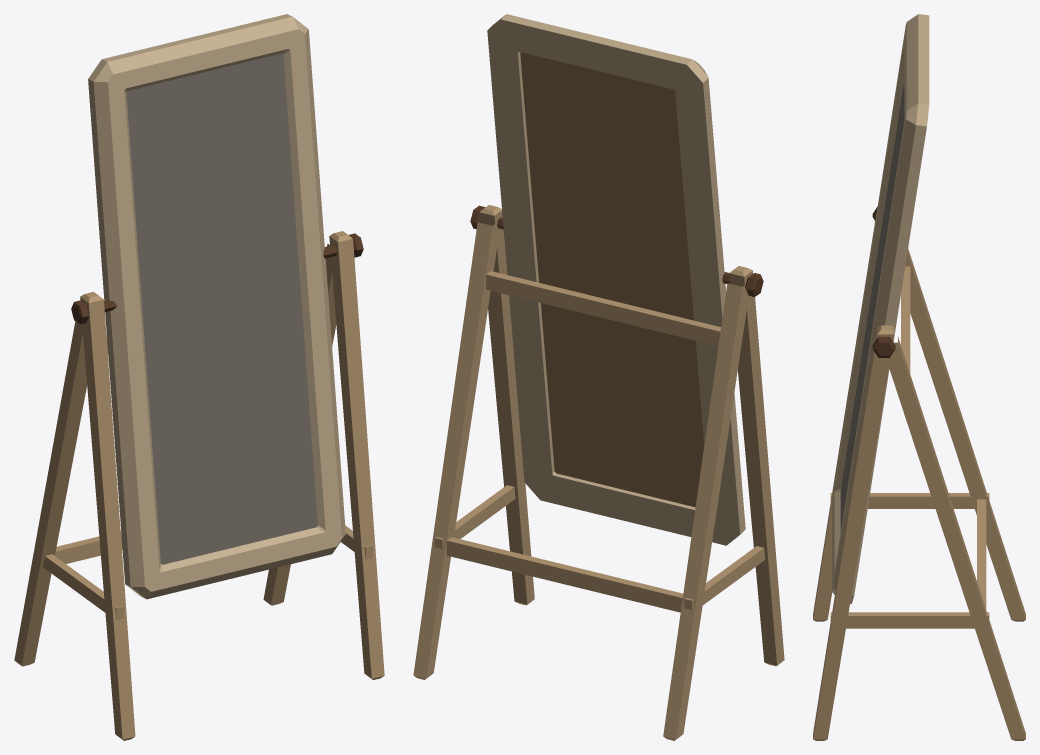
File: dressing-mirror-7c0871.glb
The picture shows the model from 3 angles, left to right: view 1: azimuth 30°, elevation 25°; view 2: azimuth 150°, elevation 25°; view 3: azimuth 270°, elevation 25°; orthographic projection. The views are drawn at different scales.
Size of the model in its own units: 0.7499 by 1.6 by 0.4968.
